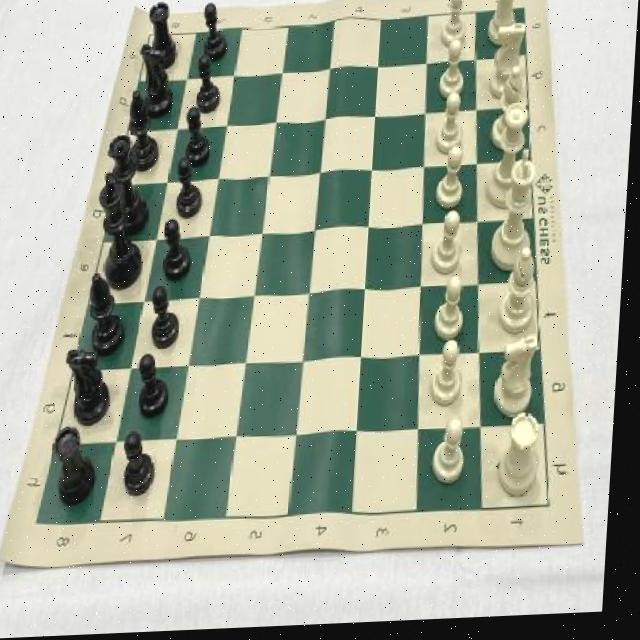bishop: (91, 273, 132, 356), (128, 91, 164, 173)
black-bishop: (93, 173, 149, 292)
black-knight: (126, 428, 163, 503), (141, 352, 174, 421), (176, 154, 208, 223), (154, 281, 185, 350), (184, 106, 216, 168), (166, 216, 196, 282), (195, 55, 225, 115), (201, 4, 230, 65)
black-pawn: (105, 133, 147, 226)
black-queen: (55, 425, 106, 509), (68, 345, 117, 429), (139, 43, 178, 117), (145, 3, 180, 73)
black-rook: (502, 248, 544, 337), (492, 71, 530, 154)
white-bishop: (493, 153, 543, 277)
white-king: (498, 334, 545, 423), (488, 26, 527, 103)
white-knight: (433, 343, 475, 412), (436, 421, 478, 489), (433, 212, 472, 280), (437, 281, 477, 344), (436, 149, 475, 213), (437, 96, 470, 159), (439, 43, 473, 103), (443, 0, 475, 48)
white-pawn: (487, 107, 534, 214)
white-queen: (502, 413, 549, 504), (486, 0, 522, 51)
